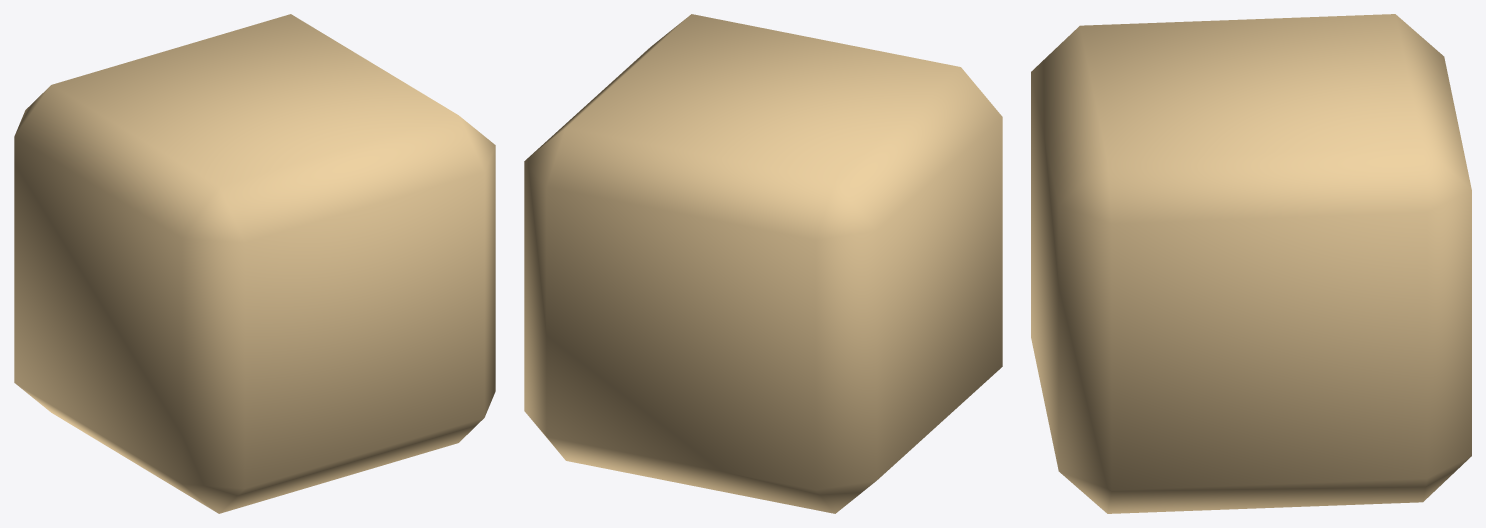
File: bread_chunk.glb
3 renders of one model, left to right at view 1: azimuth 30°, elevation 25°; view 2: azimuth 150°, elevation 25°; view 3: azimuth 270°, elevation 25°, orthographic. The views are drawn at different scales.
Parts seen in each view (by area): view 1: BreadCarryChunk; view 2: BreadCarryChunk; view 3: BreadCarryChunk.
Part boxes in pixels (<box>): BreadCarryChunk: <box>14,14,495,513</box>; BreadCarryChunk: <box>524,14,1002,513</box>; BreadCarryChunk: <box>1031,14,1471,513</box>.
Size of the model in its own units: 0.7652 by 0.68 by 0.7652.
